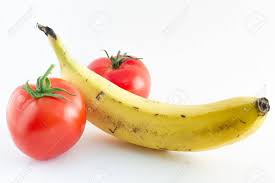banana: (85, 67, 272, 154)
tomato: (5, 77, 89, 162)
